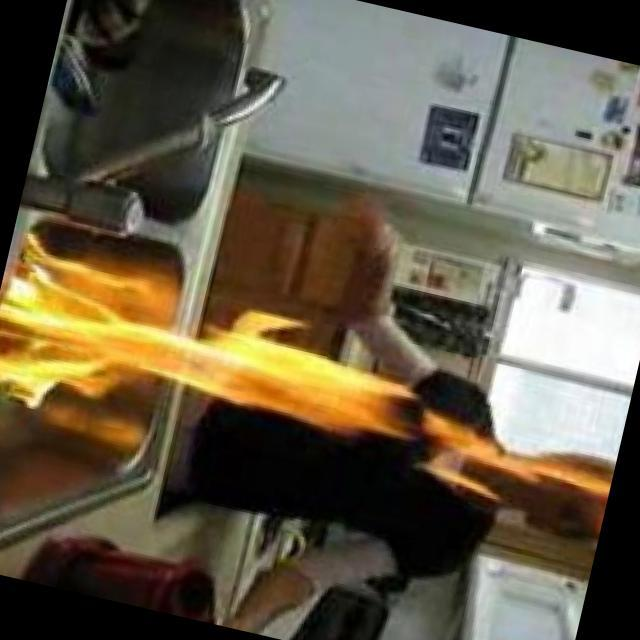Fire: (1, 240, 486, 502), (459, 423, 619, 547)
